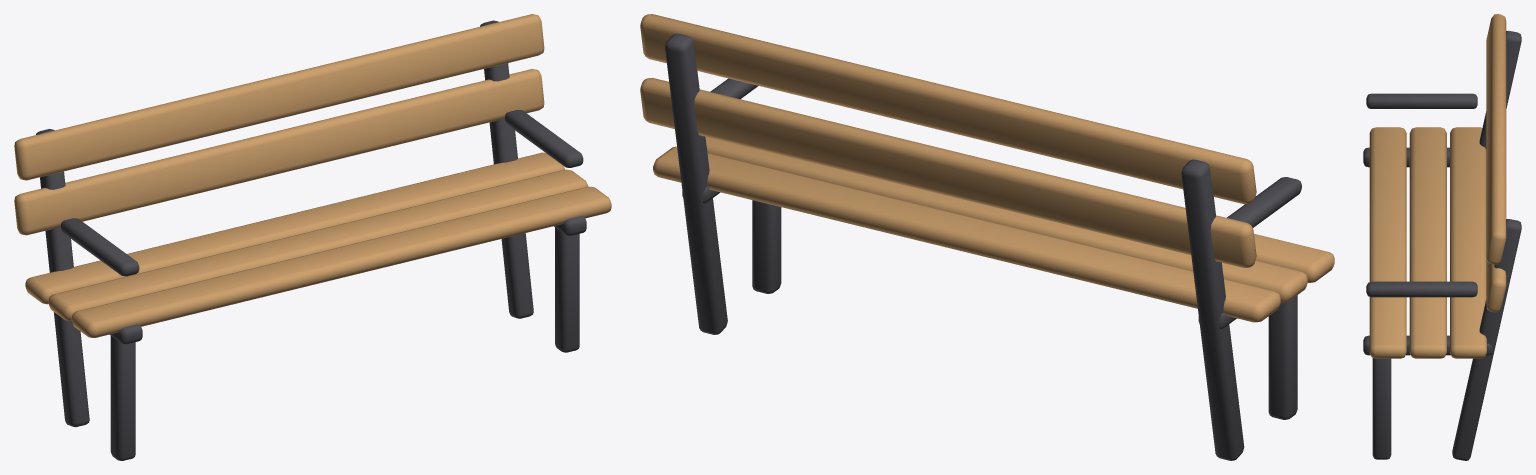
The model's file is outdoor-bench.glb.
The picture shows the model from 3 angles, left to right: view 1: azimuth 30°, elevation 25°; view 2: azimuth 150°, elevation 25°; view 3: azimuth 270°, elevation 25°; orthographic projection. The views are drawn at different scales.
Parts seen in each view (by area): view 1: bench; view 2: bench; view 3: bench.
Part boxes in pixels (x1,y1,x2,y2): bench: [14, 14, 611, 460]; bench: [640, 14, 1334, 460]; bench: [1363, 14, 1521, 460].
Bounding box in the file's own units: 1.7 × 0.8642 × 0.5118.
